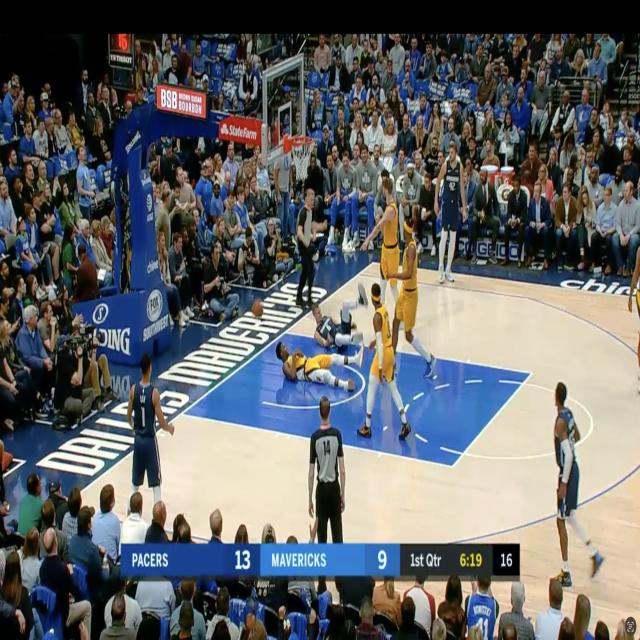foul: (266, 279, 364, 388)
no foul: (360, 222, 423, 444), (369, 182, 437, 364)
